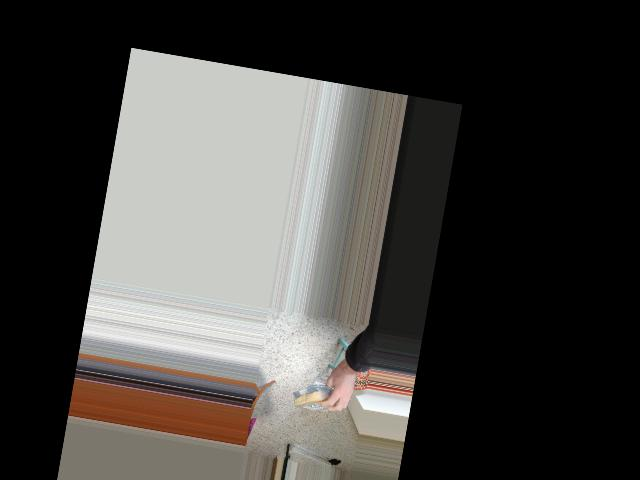cheese: (290, 384, 339, 414)
